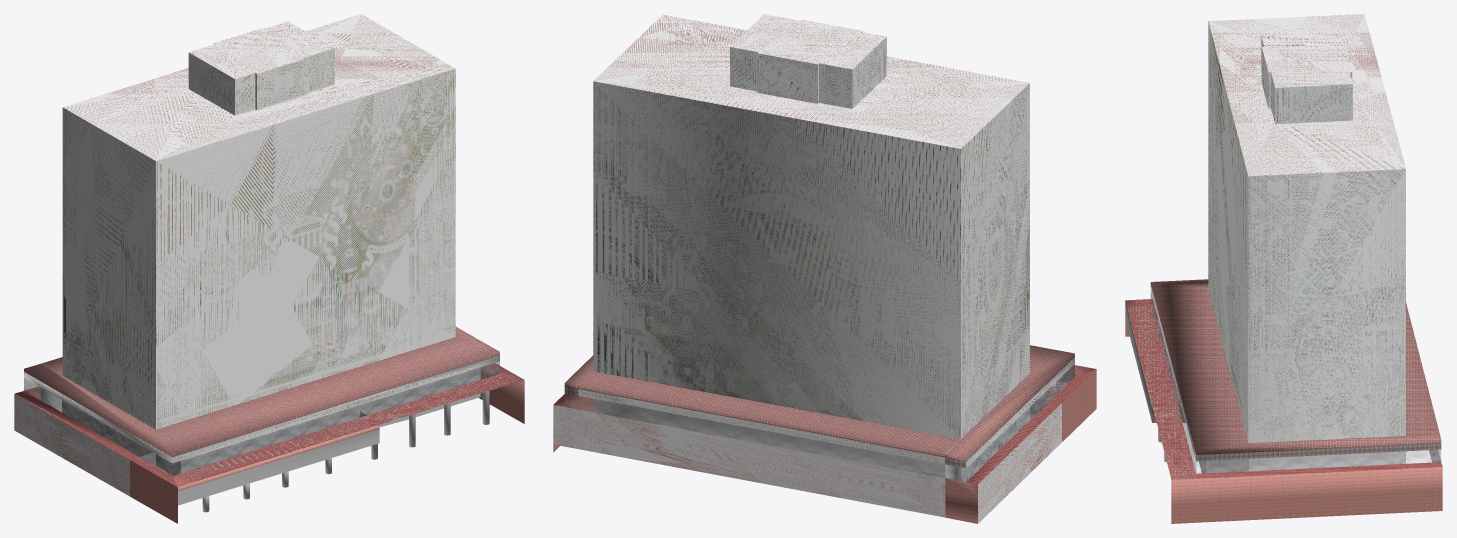
The model's file is Biblioteca.dae.
3 renders of one model, left to right at view 1: azimuth 30°, elevation 25°; view 2: azimuth 150°, elevation 25°; view 3: azimuth 270°, elevation 25°, orthographic. The views are drawn at different scales.
Visible parts, largest first — view 1: ID19, ID64, ID157, ID51, ID83, ID421, ID136, ID96, ID149, ID502, ID185, ID280 (+5 smaller); view 2: ID32, ID64, ID157, ID96, ID51, ID226, ID45, ID149, ID494, ID185, ID206, ID83 (+2 smaller); view 3: ID4, ID157, ID51, ID115, ID19, ID421, ID149, ID226, ID528, ID185, ID45, ID123 (+5 smaller).
Part boxes in pixels (box(x1,y1,x2,y2)): ID19: box(156, 68, 455, 429); ID64: box(62, 107, 155, 456); ID157: box(63, 14, 455, 160); ID51: box(24, 327, 499, 456); ID83: box(24, 361, 499, 475); ID421: box(172, 371, 524, 486); ID136: box(140, 367, 480, 475); ID96: box(14, 386, 129, 496); ID149: box(189, 21, 334, 78); ID502: box(235, 48, 334, 115); ID185: box(24, 355, 499, 463); ID280: box(178, 429, 379, 505); ID32: box(593, 81, 960, 438); ID64: box(961, 83, 1029, 481); ID157: box(593, 14, 1029, 148); ID96: box(553, 403, 1061, 523); ID51: box(564, 345, 1074, 461); ID226: box(565, 393, 965, 481); ID45: box(593, 398, 961, 481); ID149: box(730, 14, 886, 69); ID494: box(730, 47, 852, 108); ID185: box(564, 357, 1074, 468); ID206: box(966, 369, 1095, 484); ID83: box(966, 364, 1074, 481); ID4: box(1248, 169, 1405, 442); ID157: box(1208, 14, 1405, 176); ID51: box(1150, 279, 1441, 454); ID115: box(1171, 467, 1442, 523); ID19: box(1208, 21, 1248, 442); ID421: box(1125, 300, 1197, 479); ID149: box(1261, 32, 1352, 87); ID226: box(1196, 450, 1440, 473); ID528: box(1275, 84, 1352, 124); ID185: box(1150, 286, 1441, 461); ID45: box(1248, 451, 1405, 471); ID123: box(1196, 462, 1442, 478).
Bounding box in the file's own units: 225 × 201 × 157.
